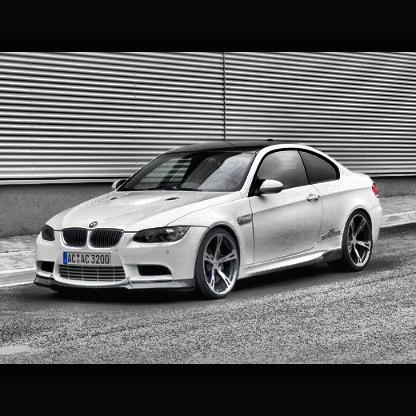BMW M3 Coupe 2012: (35, 139, 386, 303)
